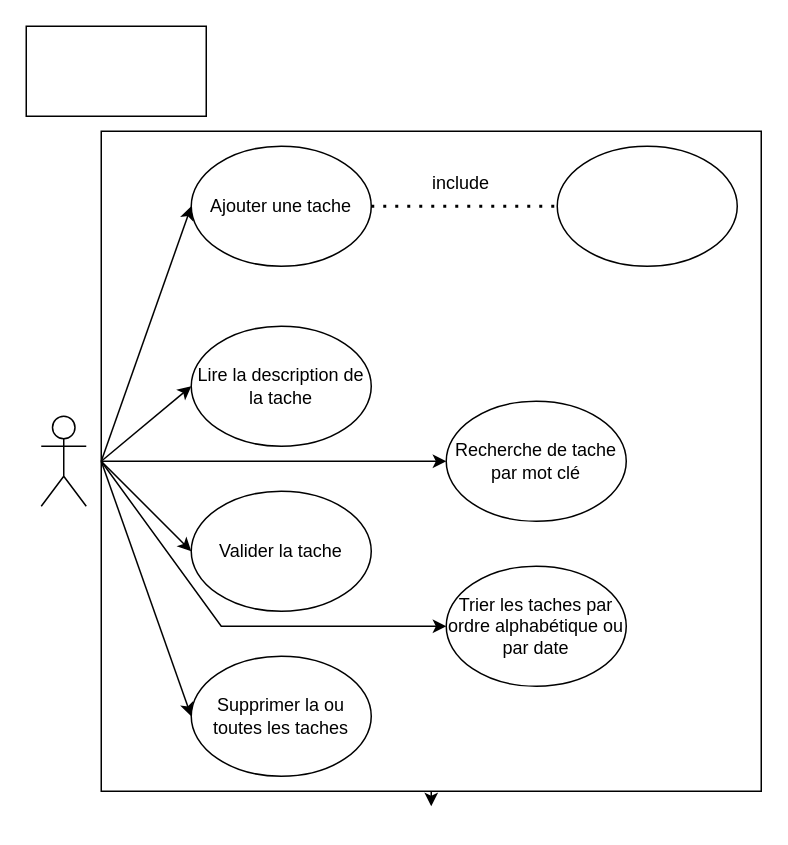
Image size: 788x845. Some labels were removed from this diagram. Here are the shapes that lost their labels. From the top down, the box of each, then its label:
(25, 25, 206, 116): ZenTask
(556, 145, 737, 266): Ecrire le titre et description de la tache
(40, 415, 86, 506): Actor
